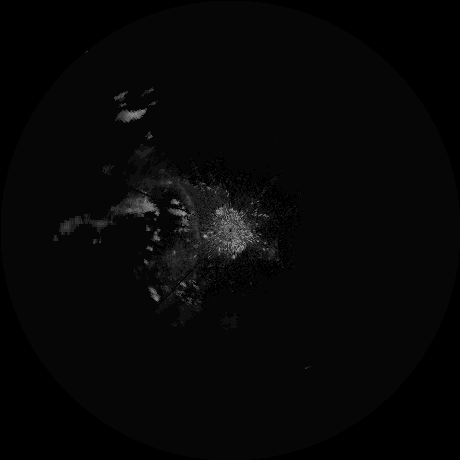frontgust: (181, 189, 201, 243)
